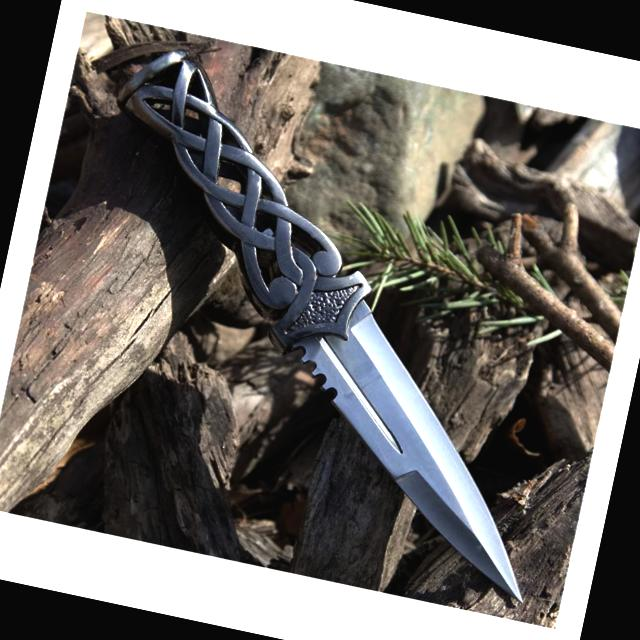short sword: (32, 41, 630, 605)
